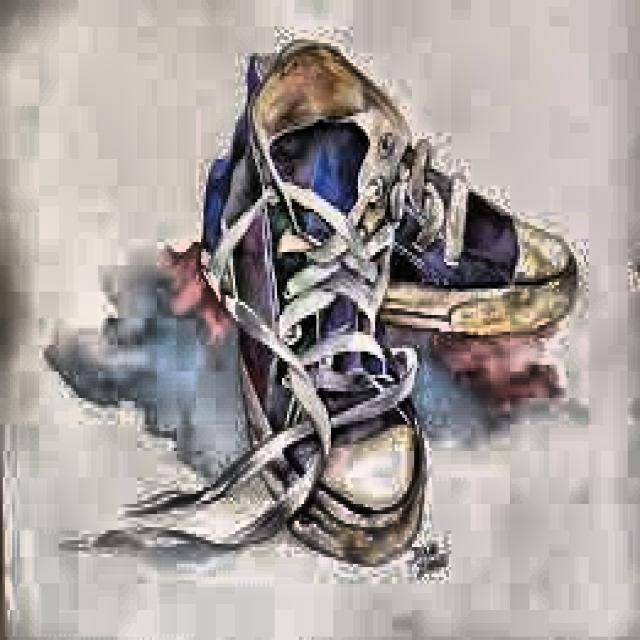shoes: (178, 17, 610, 613)
